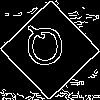Q: (25, 25, 65, 74)
